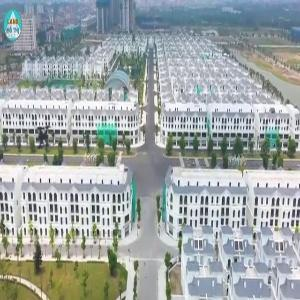drone: (11, 107, 74, 170)
